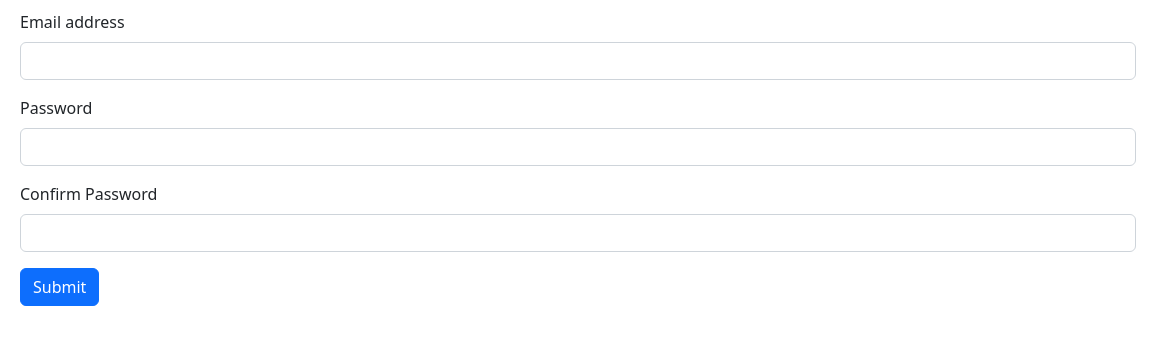
Test: error handling tests › should show email error message on invalid email
This screenshot has width=1157, height=363.
expect the text "The email address is invalid" is not shown: met
In the field labelled "Email address": (578, 61) [20,42,1136,80], type "testemailemail.com"
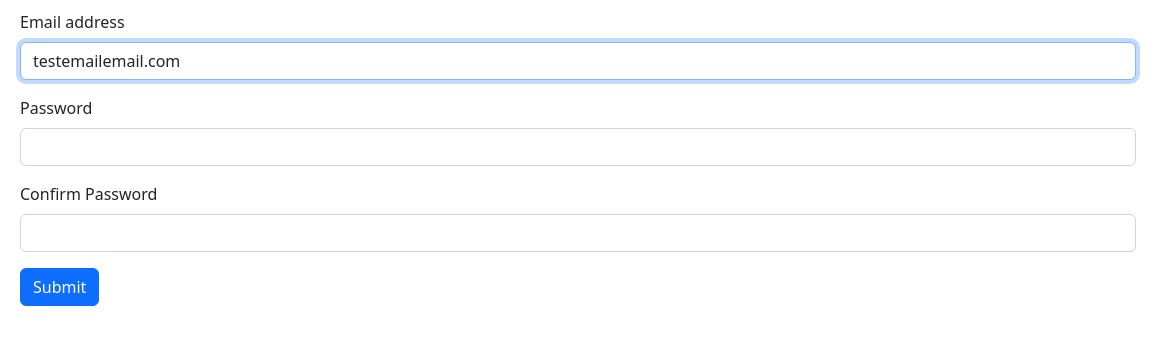
Click the button: (60, 287) [20,268,99,306]
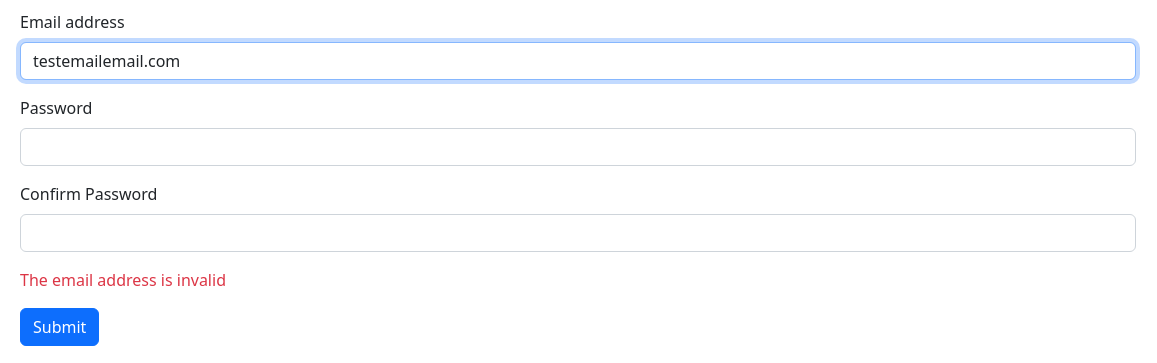
expect the text "The email address is invalid" is shown: met, box [20,269,226,291]
